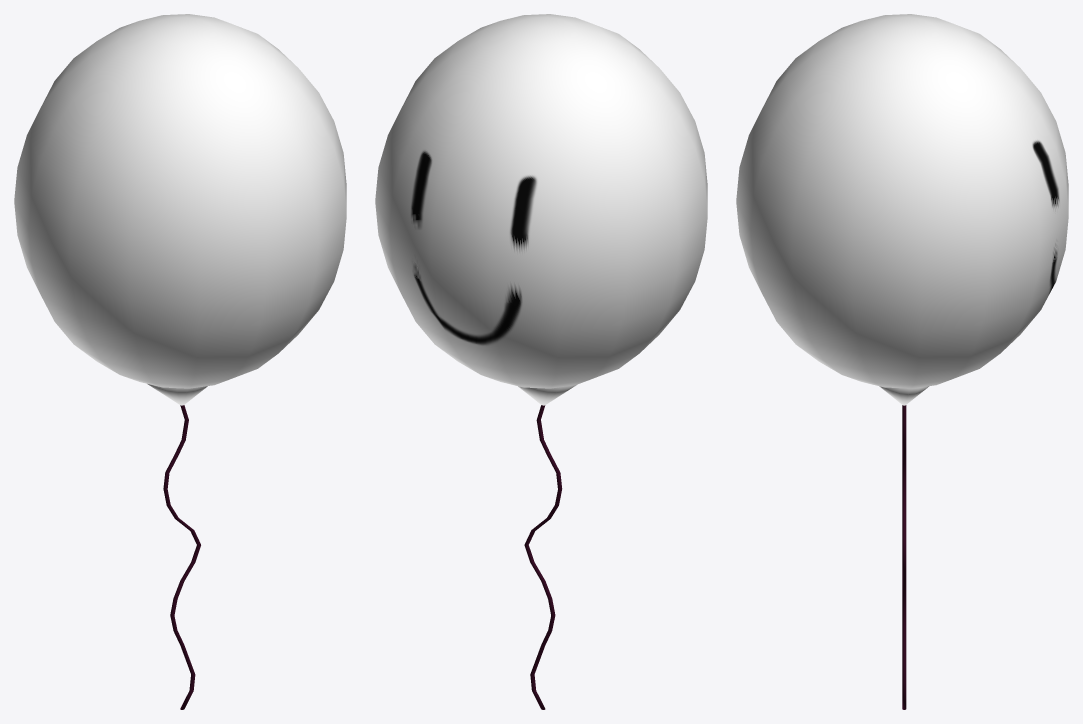
The model's file is Balloon-vand.fbx.
3 views of the same model, side by side, from view 1: azimuth 30°, elevation 25°; view 2: azimuth 150°, elevation 25°; view 3: azimuth 270°, elevation 25° (orthographic).
Parts seen in each view (by area): view 1: Balloon, Thread; view 2: Balloon, Thread; view 3: Balloon, Thread.
Boxes of the visible parts, left/top/right/bottom form: Balloon: left=14, top=14, right=346, bottom=405; Thread: left=163, top=405, right=200, bottom=709; Balloon: left=375, top=14, right=707, bottom=405; Thread: left=524, top=405, right=562, bottom=709; Balloon: left=736, top=14, right=1068, bottom=405; Thread: left=902, top=405, right=906, bottom=709.
Bounding box in the file's own units: 1.99 × 4.47 × 1.98.
